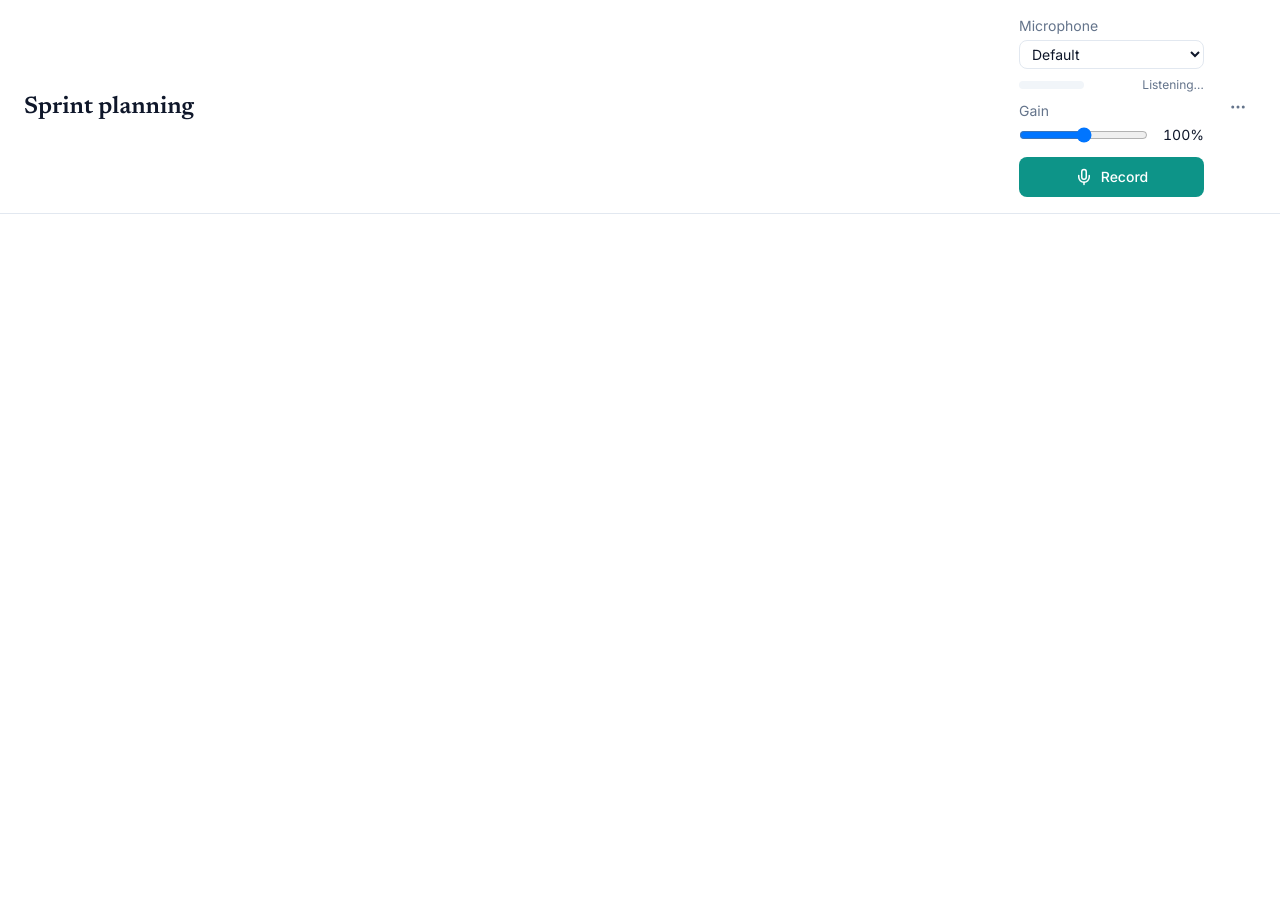
Scenario: NoteHeader › closes the menu on an outside click
Click the button named "note actions" at (1238, 106), box [1220,88,1256,124]
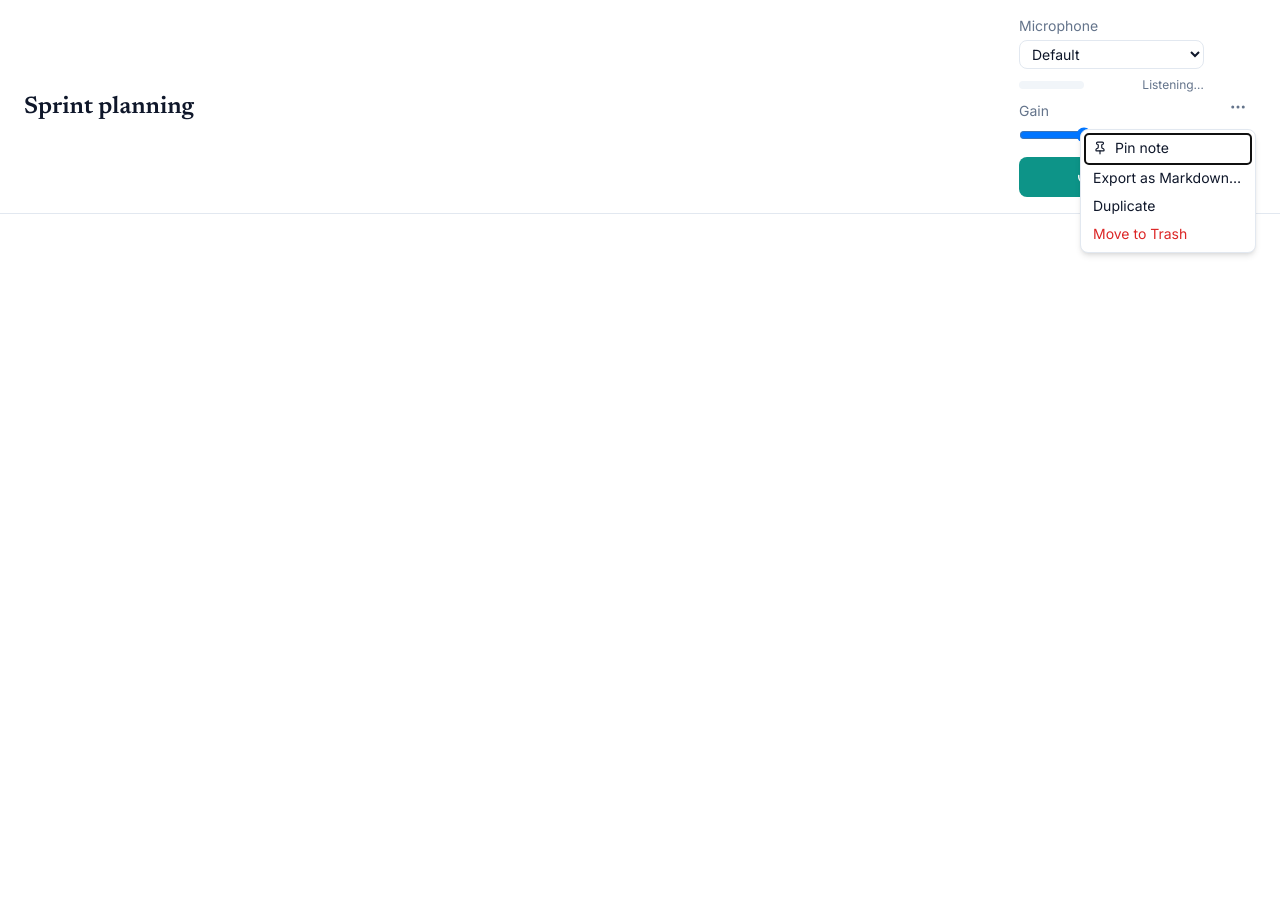
Expected: the menu item "Move to Trash" is shown, [1085,220,1251,248]
Press the mouse on the element that starts with "Microphone" at (640, 450), box [0,0,1279,899]
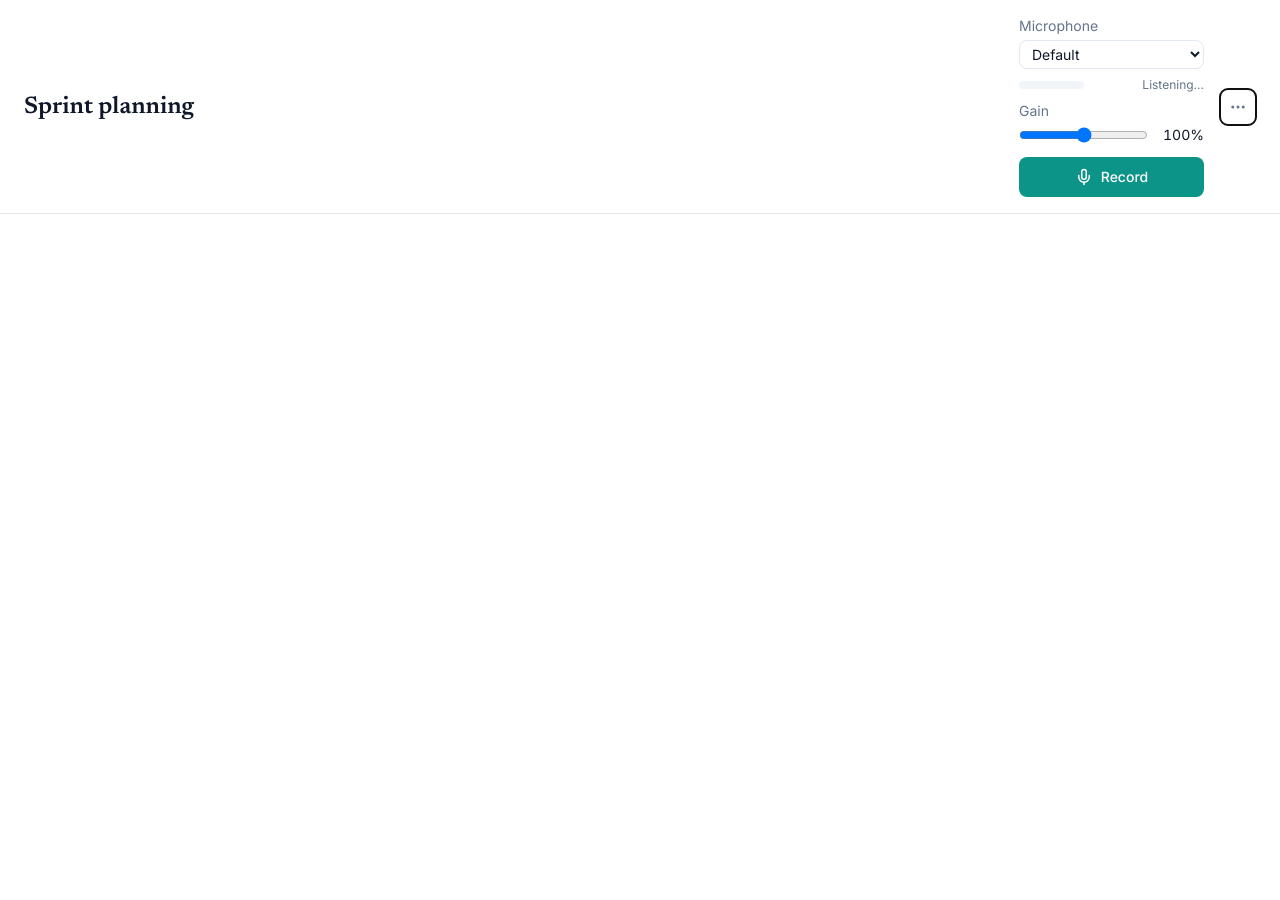
Expected: the menu item "Move to Trash" is gone
